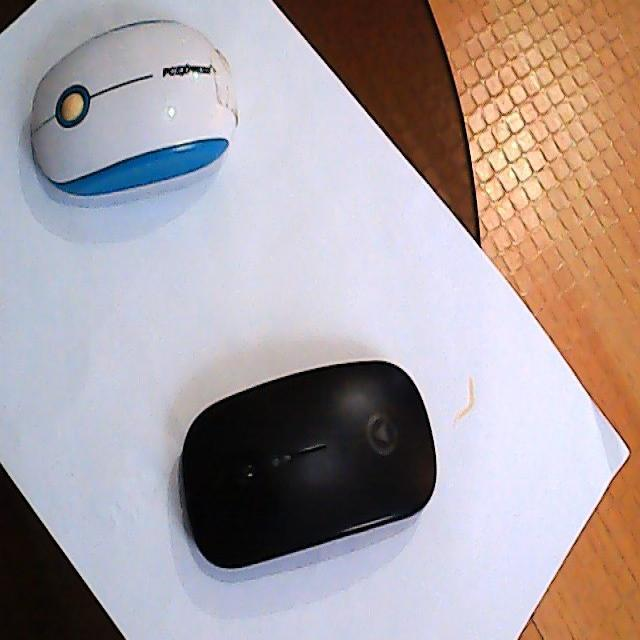Mouse: (180, 358, 438, 572), (28, 17, 241, 196)
